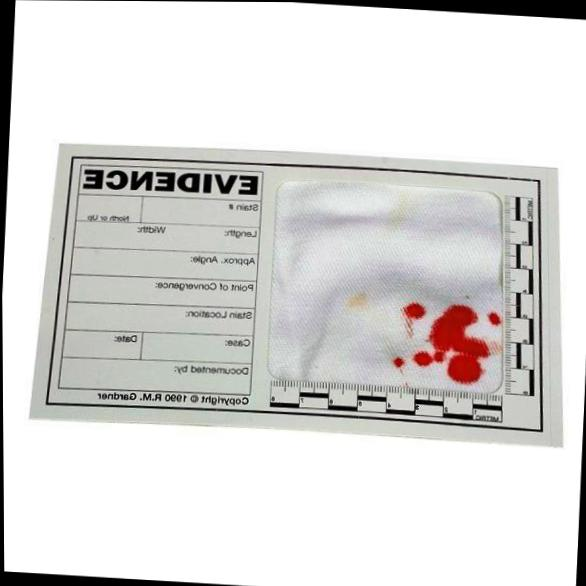Fire: (413, 304, 489, 383), (403, 302, 424, 318), (488, 311, 500, 323), (393, 357, 403, 366)
